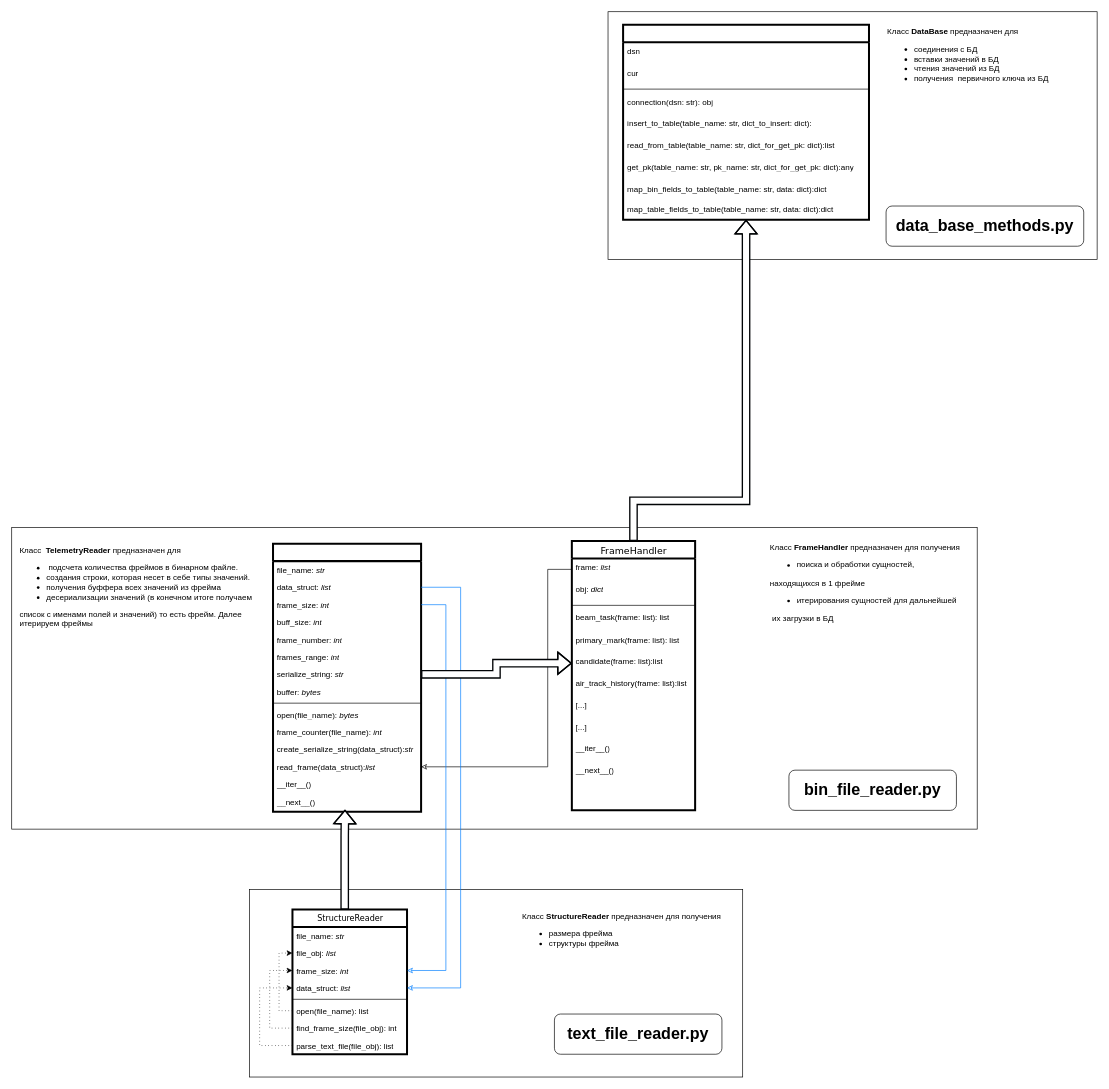
This 1109x1089 diagram has some shape labels left out. The shapes that lost their labels are listed below. From the top down, each one's box as (x1, y1, x2, y2) in pixels, then its label:
(622, 23, 870, 220): DataBase
(272, 542, 422, 812): TelemetryReader
